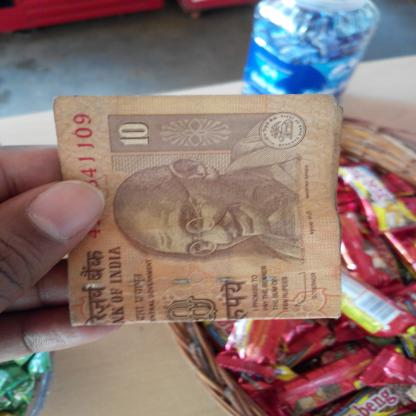Old10Front: (50, 93, 346, 328)
